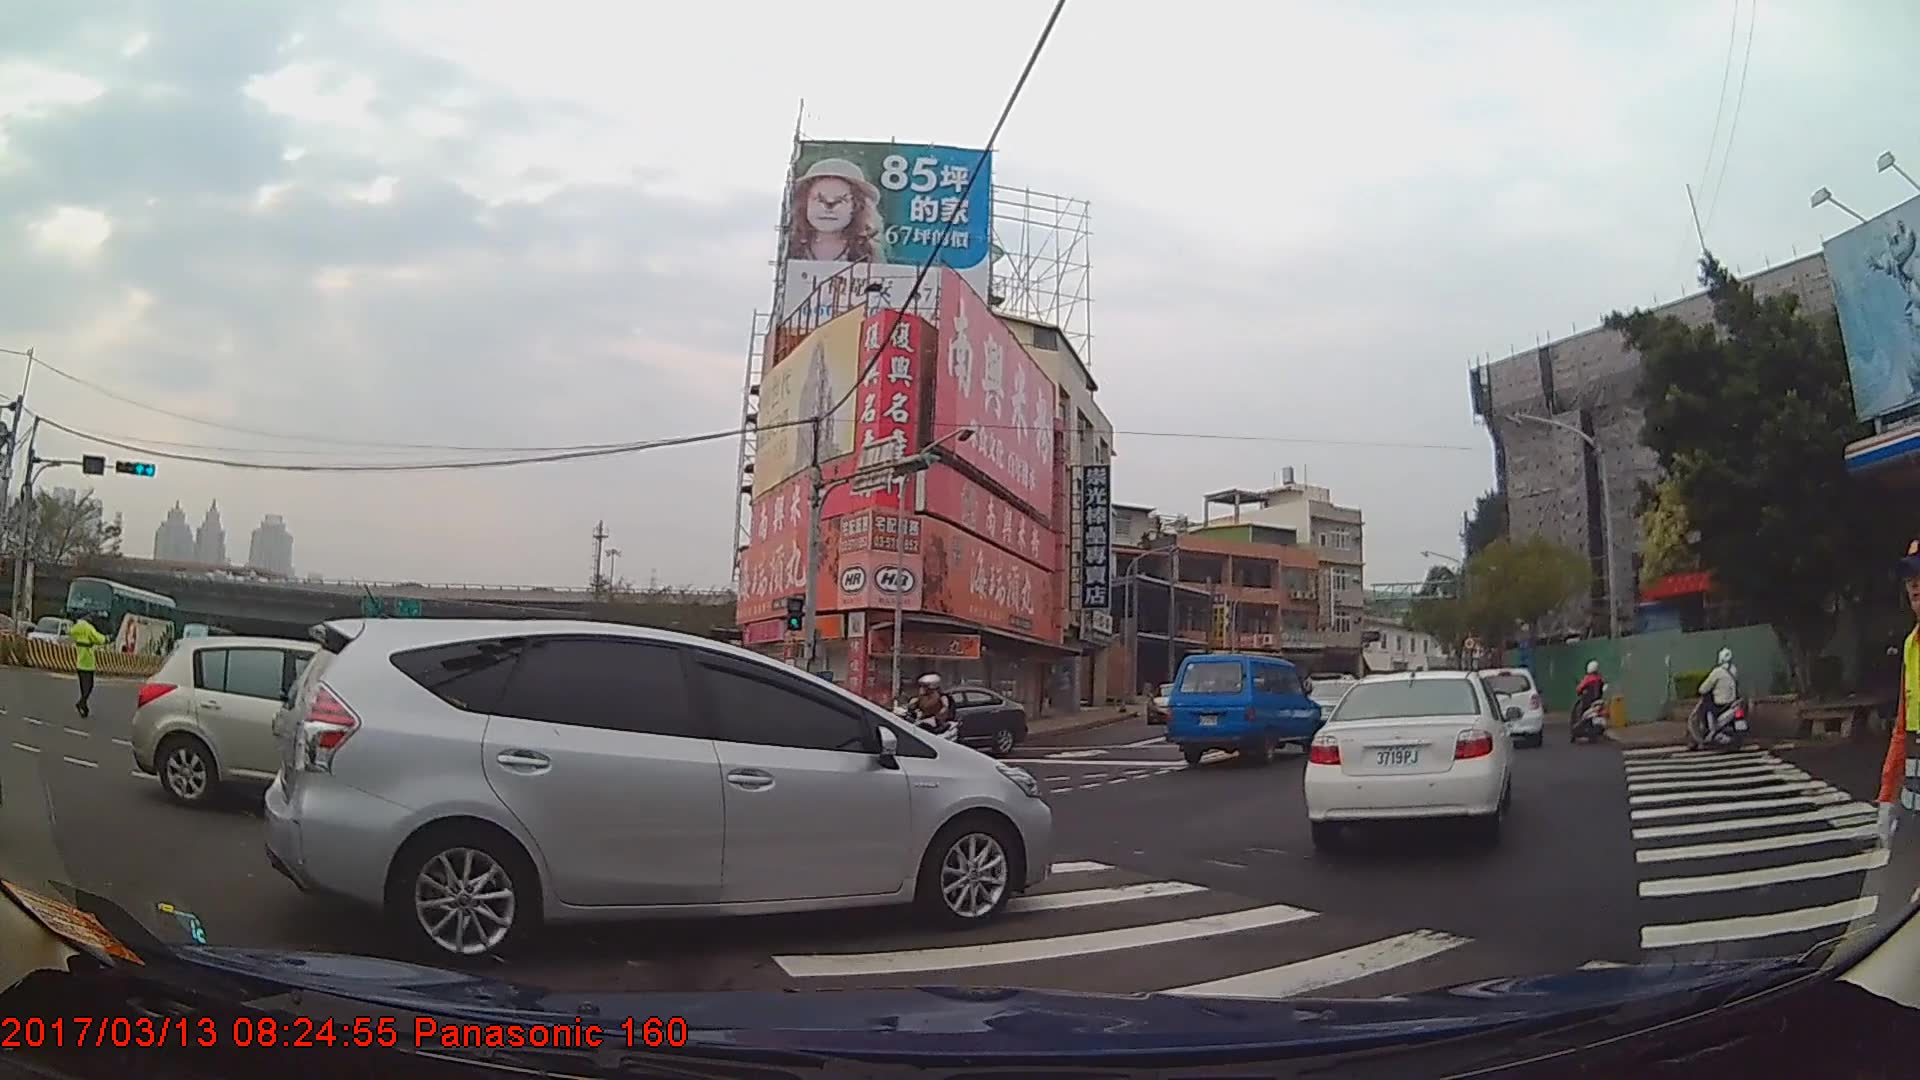pedestrian: (69, 607, 115, 722)
rider: (1686, 646, 1748, 752), (889, 676, 962, 763), (1570, 663, 1611, 744)
vehicle: (261, 615, 1054, 961), (132, 634, 447, 808), (1302, 670, 1511, 846), (1163, 652, 1318, 765), (62, 574, 177, 667), (874, 686, 1024, 755), (1467, 667, 1542, 749), (20, 614, 73, 660)
